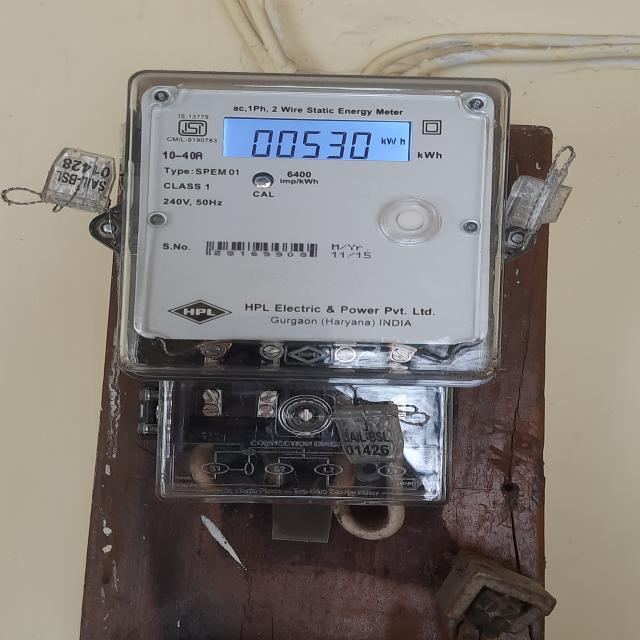display: (229, 114, 418, 165)
